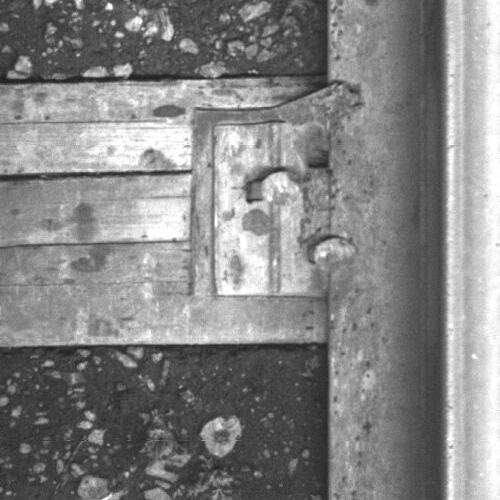do: (211, 123, 357, 297)
hole_do: (299, 138, 336, 177)
rail: (443, 1, 500, 500)
tie_wood: (1, 77, 327, 344)
wood_crack: (1, 164, 194, 253)
